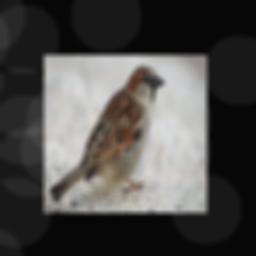Sparrow: (50, 65, 166, 202)
